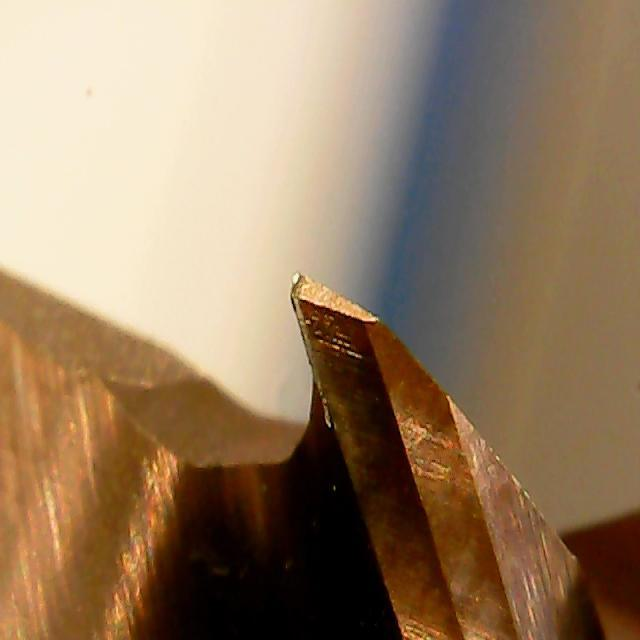Tool-wear-class-1: (277, 270, 442, 500)
